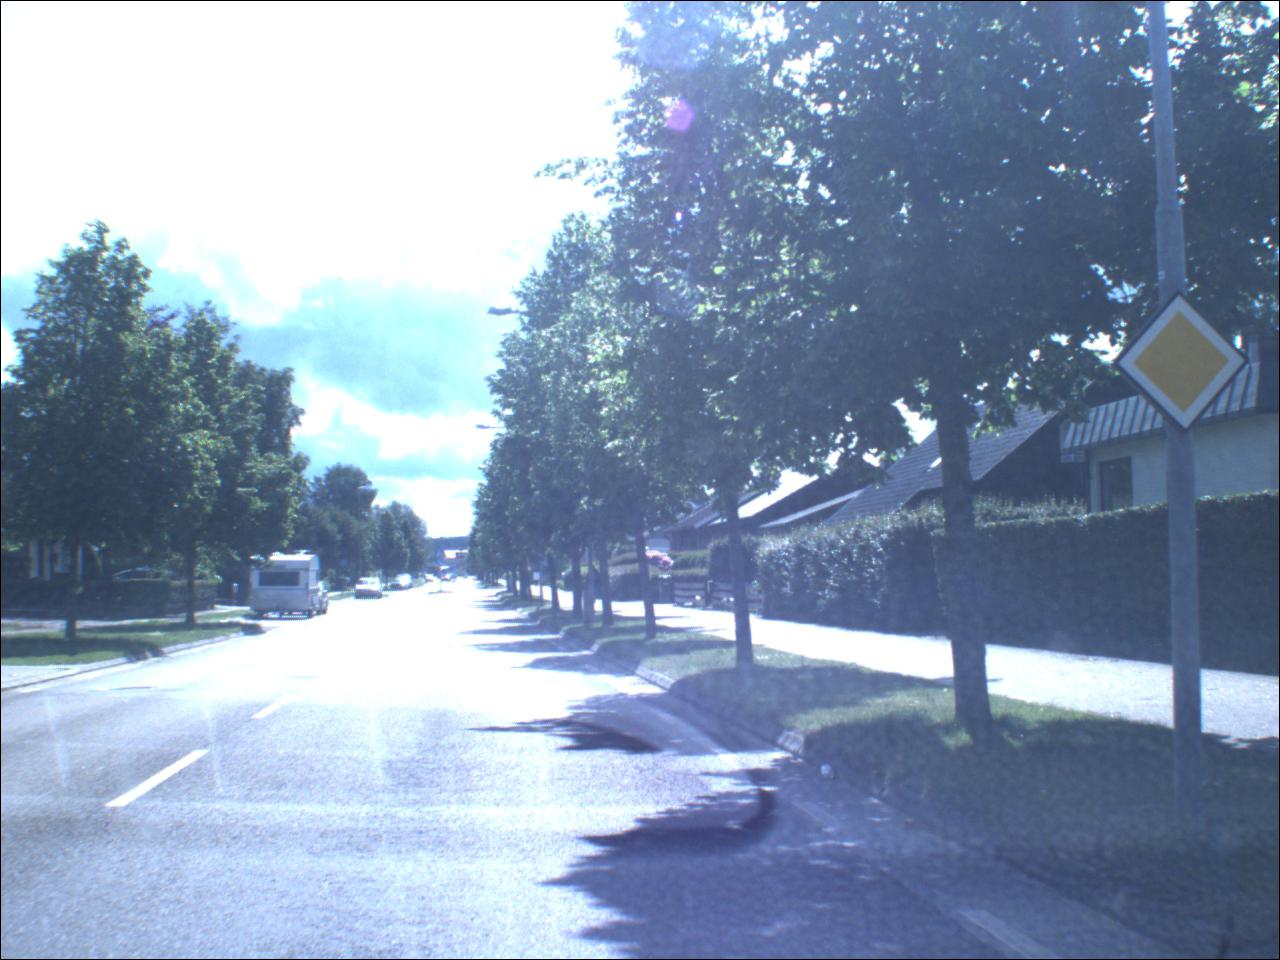PRIORITY_ROAD: (1115, 294, 1257, 433)
